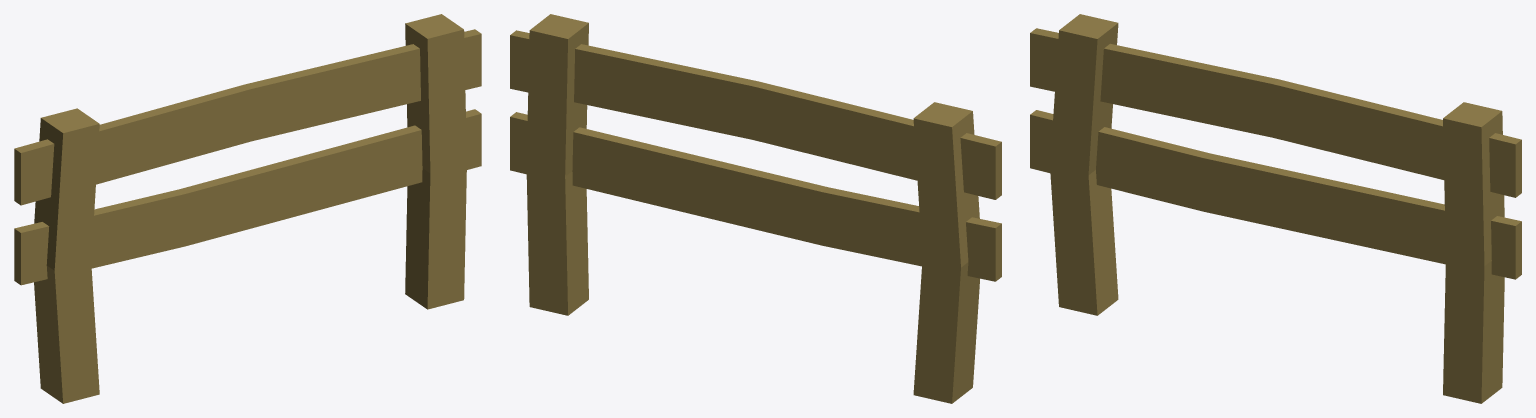
The model's file is Fence.glb.
3 views of the same model, side by side, from view 1: azimuth 30°, elevation 25°; view 2: azimuth 150°, elevation 25°; view 3: azimuth 330°, elevation 25° (orthographic). The views are drawn at different scales.
Parts seen in each view (by area): view 1: fence.017; view 2: fence.017; view 3: fence.017.
Part boxes in pixels (<box>): fence.017: <box>14,14,481,403</box>; fence.017: <box>510,14,1001,403</box>; fence.017: <box>1030,14,1521,403</box>.
Size of the model in its own units: 0.2665 by 0.1473 by 0.0274.
